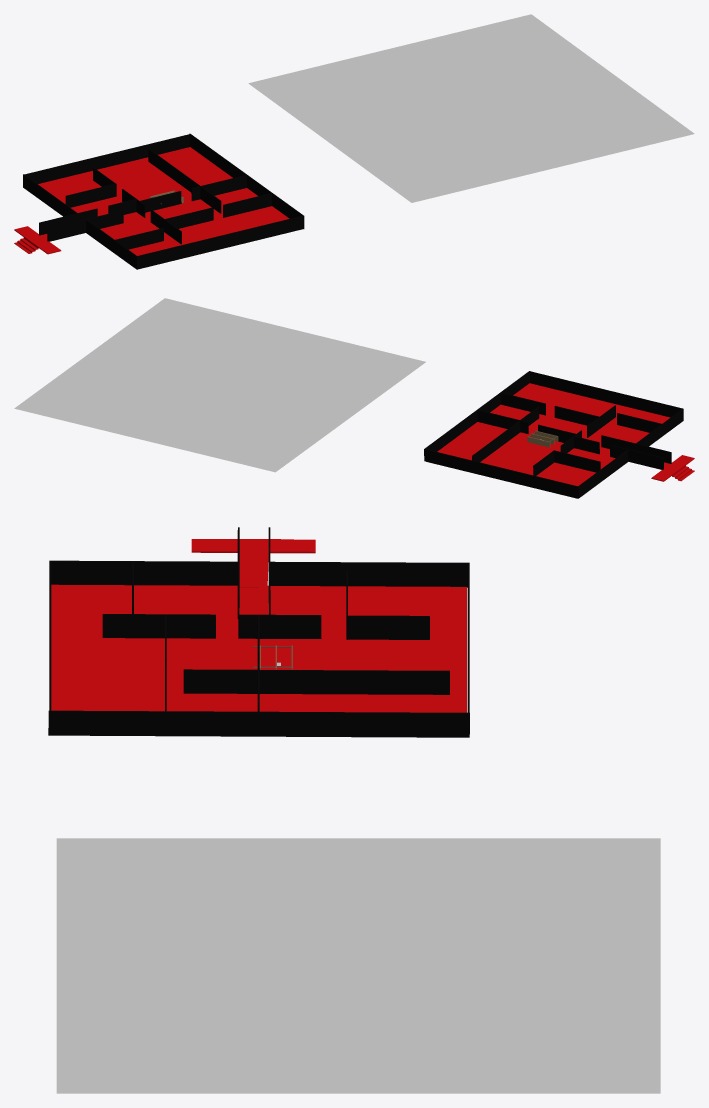
The model's file is Rectangle Layout 1.fbx.
3 renders of one model, top to bottom at view 1: azimuth 30°, elevation 25°; view 2: azimuth 150°, elevation 25°; view 3: azimuth 270°, elevation 25°, orthographic. The views are drawn at different scales.
Parts seen in each view (by area): view 1: 00, Ground_3, Wall__3__1.019, Wall__3__1.018, Wall__3__1.020, Wall__3__1.017, Wall__3__1.011, Wall__3__1.005, Wall__3__1.006, Wall__3__1.016, Wall__3__1.013, Wall__3__1.012 (+6 smaller); view 2: 00, Ground_3, Wall__3__1.018, Wall__3__1.019, Wall__3__1.020, Wall__3__1.017, Wall__3__1.006, Wall__3__1.005, Wall__3__1.016, Wall__3__1.011, Wall__3__1.013, Wall__3__1.012 (+7 smaller); view 3: 00, Ground_3, Wall__3__1.020, Wall__3__1.017, Wall__3__1.006, Wall__3__1.011, Wall__3__1.008, Wall__3__1.014, Wall__3__1.007, Ground_3.001, Ground_3.003.
Part boxes in pixels (x1,y1,x2,y2): 00: (248,14,694,202); Ground_3: (38,147,289,255); Wall__3__1.019: (137,215,302,269); Wall__3__1.018: (24,134,189,183); Wall__3__1.020: (189,133,304,229); Wall__3__1.017: (148,149,221,213); Wall__3__1.011: (86,219,137,269); Wall__3__1.005: (65,183,116,207); Wall__3__1.006: (23,174,77,216); Wall__3__1.016: (191,175,246,201); Wall__3__1.013: (223,193,271,217); Wall__3__1.012: (165,207,213,228); 00: (14,298,425,472); Ground_3: (437,383,670,486); Wall__3__1.018: (425,449,577,498); Wall__3__1.019: (530,371,682,417); Wall__3__1.020: (424,371,529,461); Wall__3__1.017: (472,406,539,462); Wall__3__1.006: (578,449,628,498); Wall__3__1.005: (553,450,600,472); Wall__3__1.016: (477,410,528,433); Wall__3__1.011: (636,408,683,446); Wall__3__1.013: (500,392,545,415); Wall__3__1.012: (554,406,599,425); 00: (56,838,660,1093); Ground_3: (51,584,466,712); Wall__3__1.020: (48,710,469,737); Wall__3__1.017: (183,669,449,694); Wall__3__1.006: (270,561,469,587); Wall__3__1.011: (49,560,237,585); Wall__3__1.008: (102,614,215,638); Wall__3__1.014: (348,615,429,639); Wall__3__1.007: (238,614,321,638); Ground_3.001: (191,539,315,553); Ground_3.003: (239,550,268,587).
Size of the model in its own units: 748249 by 20857 by 346434.
